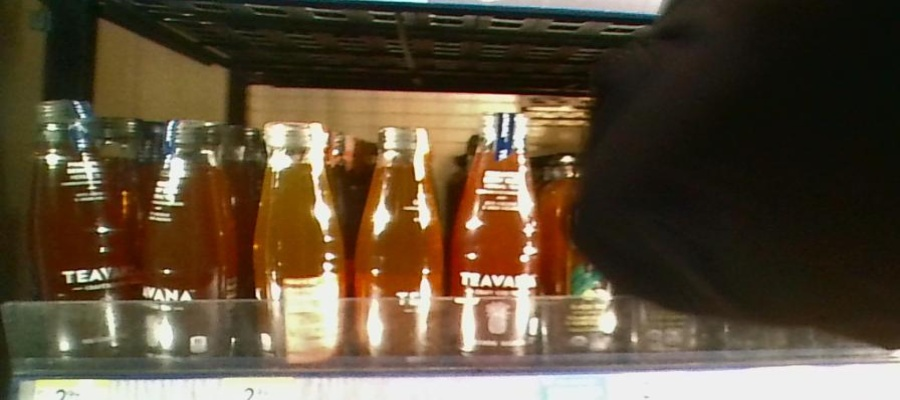bottle: (27, 91, 132, 370), (248, 111, 350, 370), (140, 117, 241, 373), (451, 111, 543, 360), (356, 124, 443, 365)
